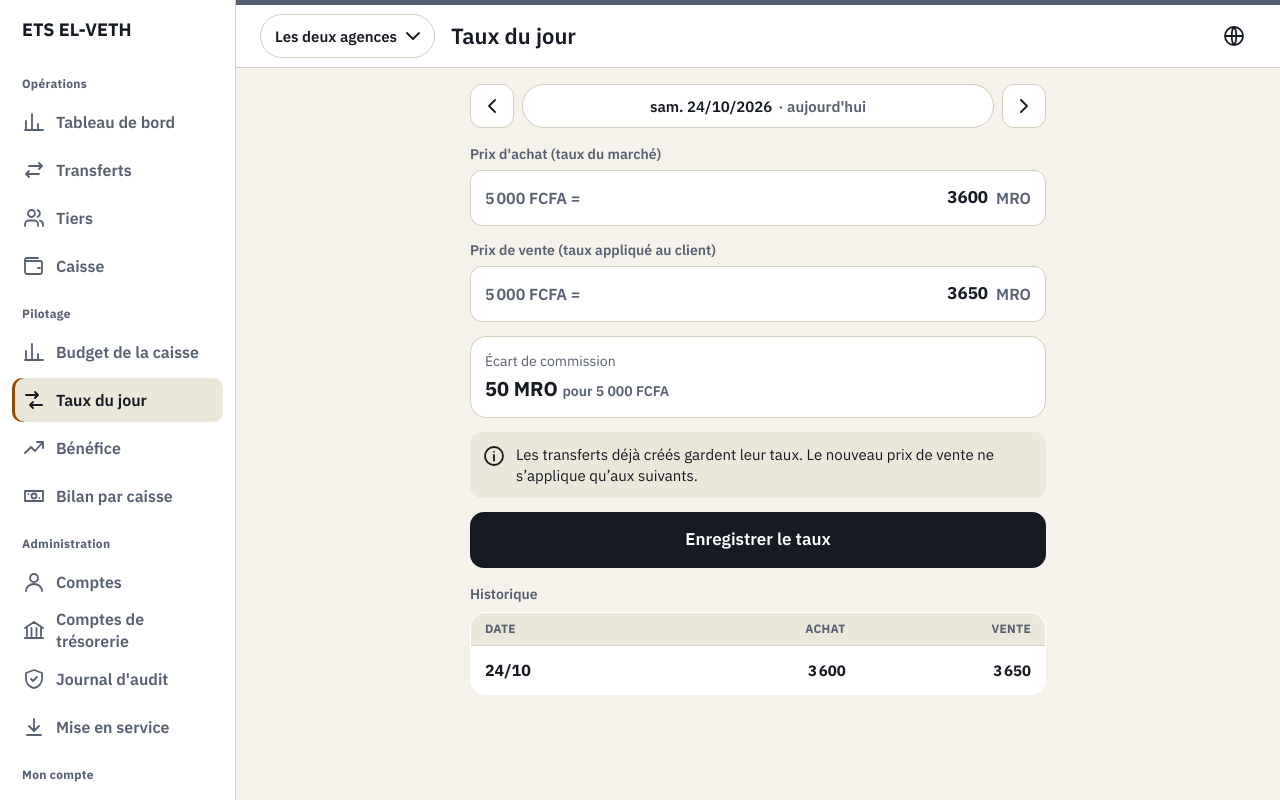
Taux du jour — Superviseur › enregistre un taux avec des décimales, sans arrondi
The width and height of the screenshot is (1280, 800).
Replace the text in the field labelled "Prix d'achat (taux du marché)" with "3 604,77": (788, 198) 588,172 -> 988,224
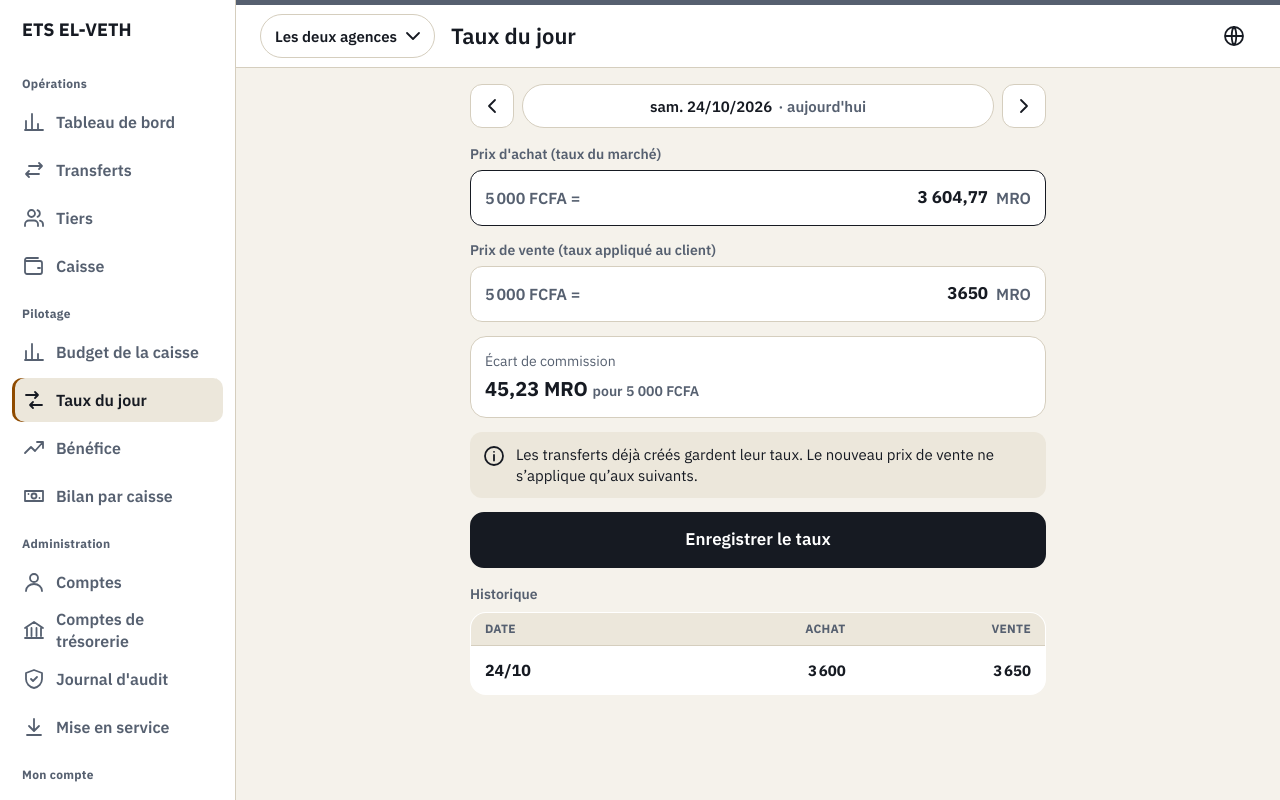
Click the button "Enregistrer le taux": (758, 540) 470,512 -> 1046,568
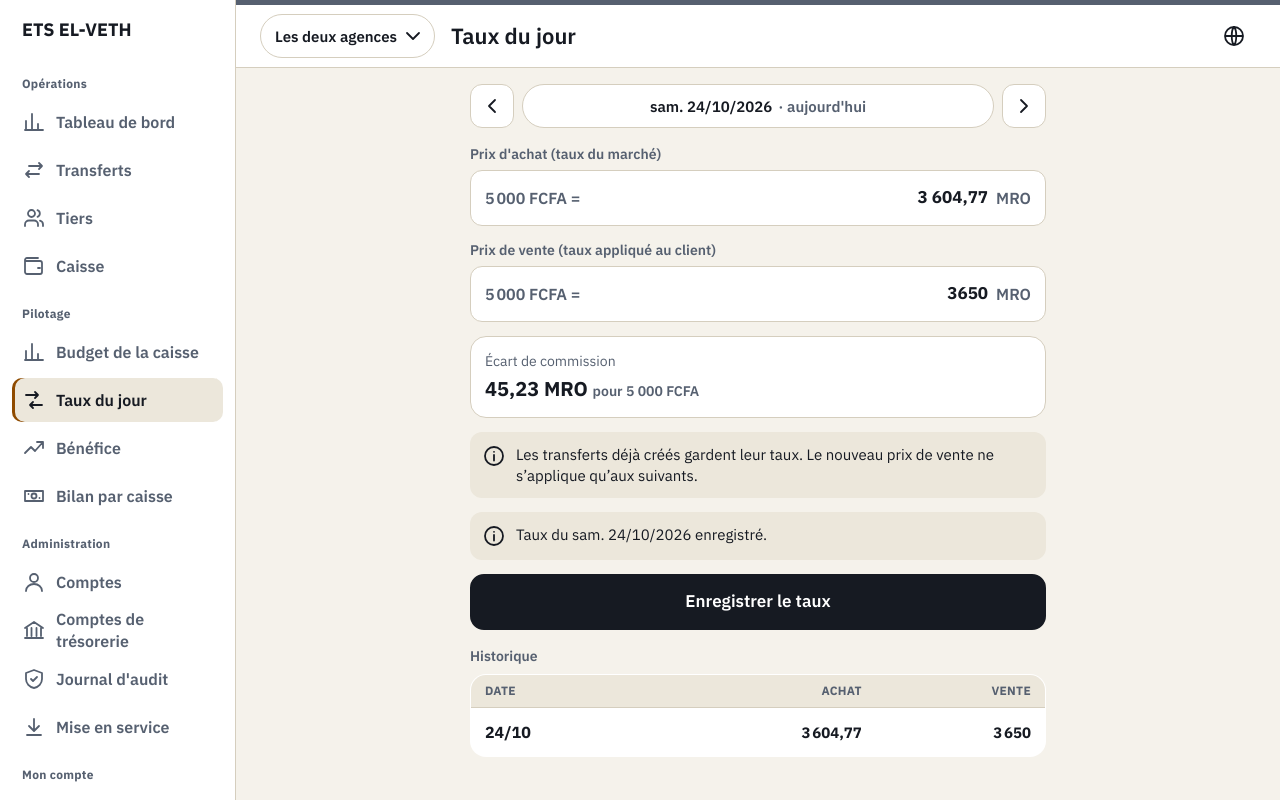
Check: the text "Taux du sam. 24/10/2026 enregistré." is shown, box 516,524 -> 767,548
